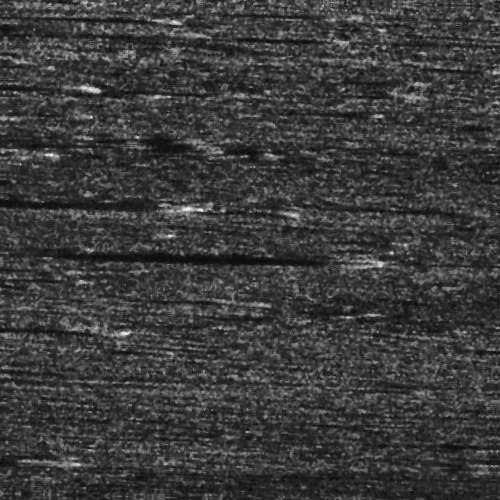object: (284, 250, 429, 261), (0, 150, 78, 163), (277, 35, 360, 40), (22, 462, 95, 467), (59, 331, 122, 336), (42, 87, 95, 92), (330, 9, 371, 14), (140, 18, 171, 21), (0, 118, 8, 127)
shadow: (89, 250, 356, 261), (258, 9, 350, 14), (0, 331, 90, 336), (228, 35, 318, 40), (7, 18, 155, 21), (448, 337, 500, 344), (0, 87, 68, 92), (0, 150, 25, 163), (0, 462, 59, 467)
